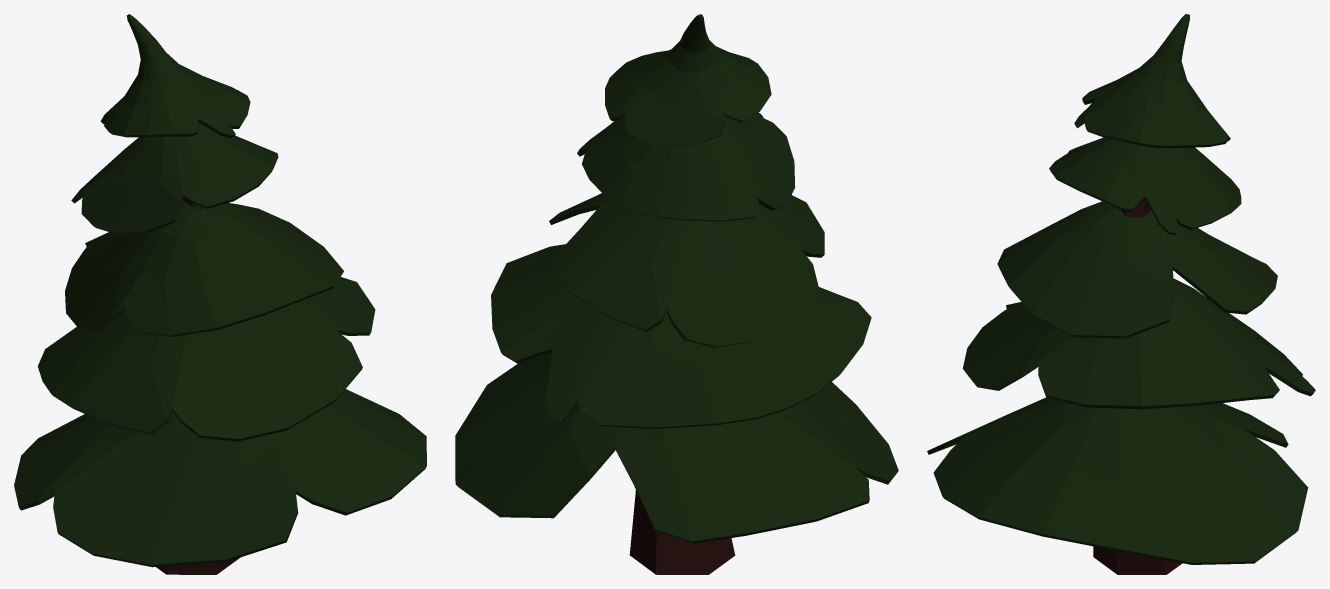
File: PineTree_1.glb
3 renders of one model, left to right at view 1: azimuth 30°, elevation 25°; view 2: azimuth 150°, elevation 25°; view 3: azimuth 270°, elevation 25°, orthographic. The views are drawn at different scales.
Visible parts, largest first — view 1: PineTree_1_Cylinder.018; view 2: PineTree_1_Cylinder.018; view 3: PineTree_1_Cylinder.018.
Part boxes in pixels (x1,y1,x2,y2): PineTree_1_Cylinder.018: (14,14,426,574); PineTree_1_Cylinder.018: (455,14,898,574); PineTree_1_Cylinder.018: (927,14,1315,574).
Size of the model in its own units: 1.96 by 2.7 by 1.82.
